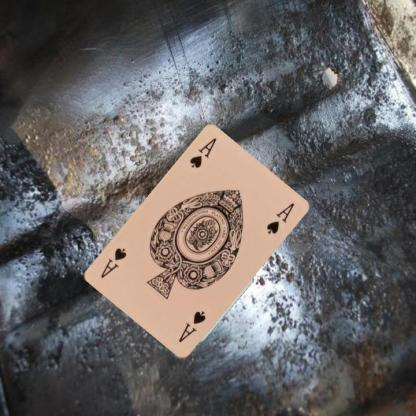As: (186, 135, 218, 170), (176, 309, 207, 344)
